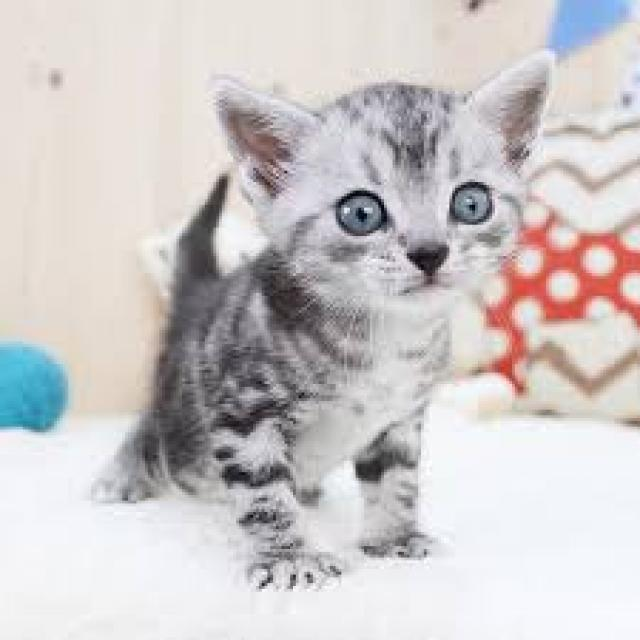cat-face: (165, 62, 640, 347)
